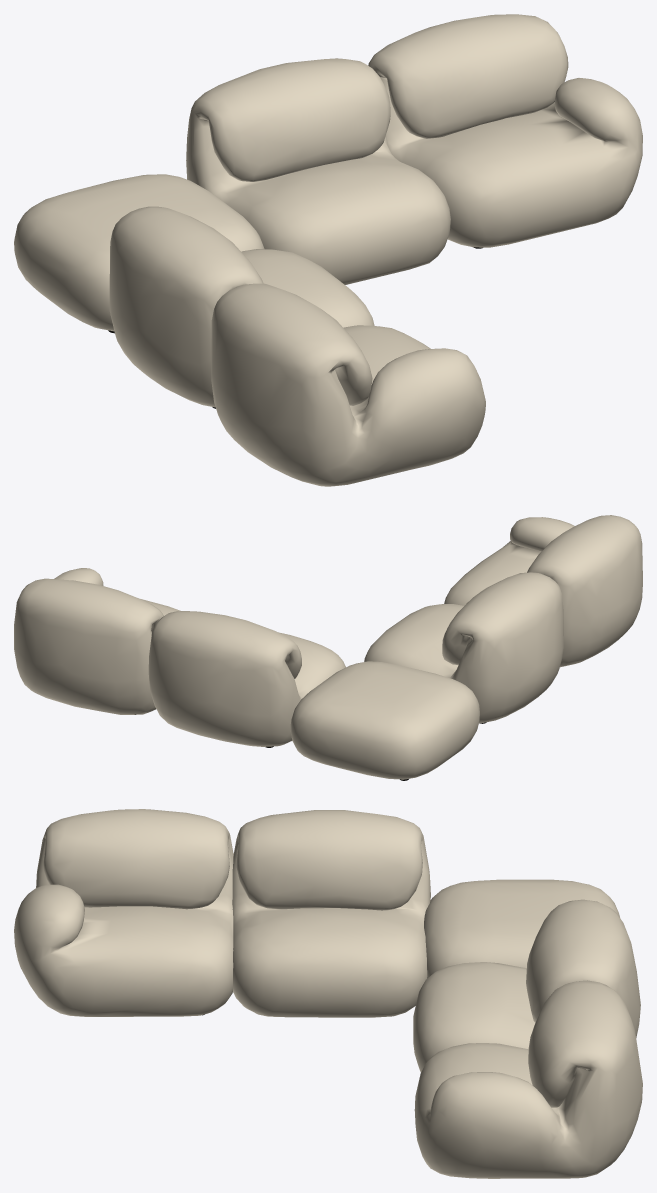
File: LuvaCornerLow.obj
3 renders of one model, top to bottom at view 1: azimuth 30°, elevation 25°; view 2: azimuth 150°, elevation 25°; view 3: azimuth 270°, elevation 25°, orthographic. The views are drawn at different scales.
Parts seen in each view (by area): view 1: SEAT-FABRIC; view 2: SEAT-FABRIC; view 3: SEAT-FABRIC.
Part boxes in pixels (bbox=[...]): SEAT-FABRIC: bbox=[14, 14, 642, 486]; SEAT-FABRIC: bbox=[14, 515, 642, 779]; SEAT-FABRIC: bbox=[14, 809, 642, 1178].
Bounding box in the file's own units: 2.95 × 0.724 × 2.95.
